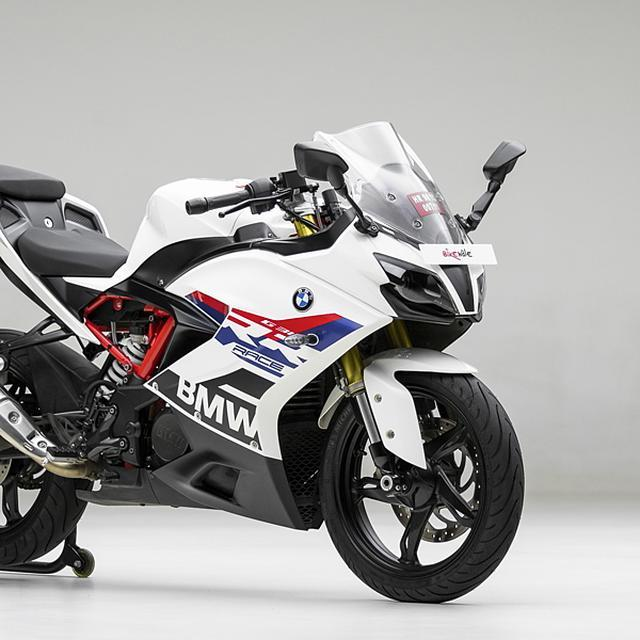motorcycle: (0, 117, 554, 610)
